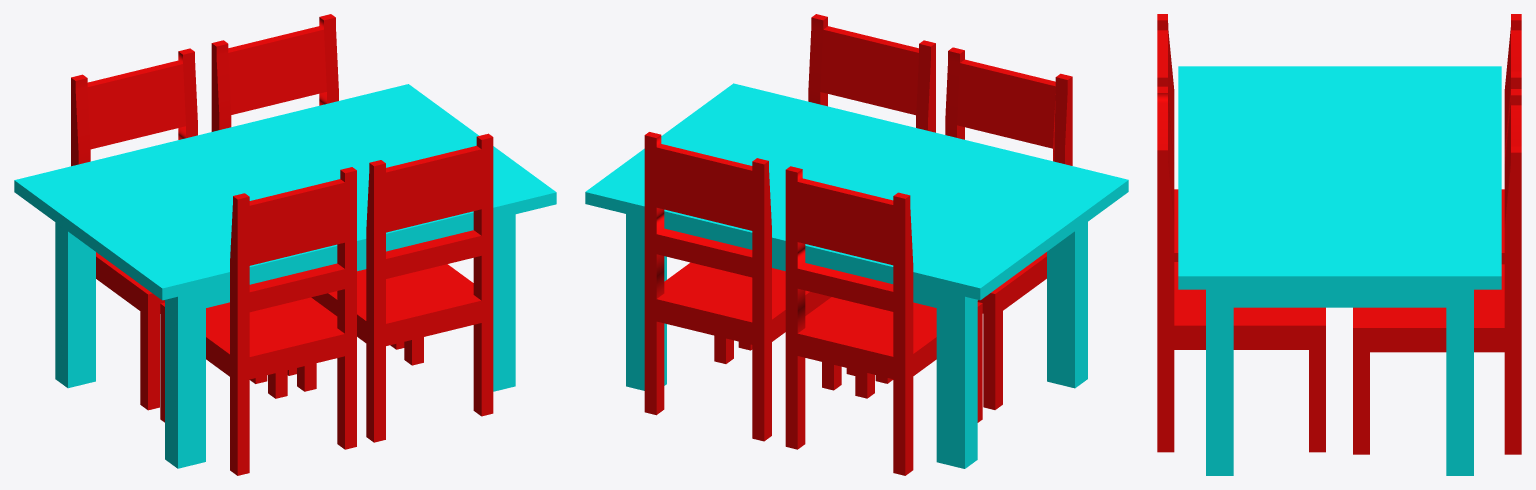
Rendered from Table.fbx.
3 views of the same model, side by side, from view 1: azimuth 30°, elevation 25°; view 2: azimuth 150°, elevation 25°; view 3: azimuth 270°, elevation 25° (orthographic). The views are drawn at different scales.
Visible parts, largest first — view 1: pasted__pCube1, pCube41, pCube42, pCube44, pCube43; view 2: pasted__pCube1, pCube44, pCube43, pCube41, pCube42; view 3: pasted__pCube1, pCube43, pCube42, pCube41, pCube44.
Part boxes in pixels (bbox=[...]): pasted__pCube1: bbox=[14, 84, 556, 468]; pCube41: bbox=[160, 167, 356, 475]; pCube42: bbox=[297, 133, 493, 442]; pCube44: bbox=[71, 48, 267, 410]; pCube43: bbox=[211, 14, 404, 375]; pasted__pCube1: bbox=[585, 83, 1128, 468]; pCube44: bbox=[785, 166, 982, 475]; pCube43: bbox=[644, 132, 841, 441]; pCube41: bbox=[875, 47, 1072, 409]; pCube42: bbox=[738, 14, 935, 375]; pasted__pCube1: bbox=[1178, 66, 1501, 475]; pCube43: bbox=[1353, 89, 1521, 454]; pCube42: bbox=[1157, 86, 1325, 452]; pCube41: bbox=[1157, 14, 1178, 261]; pCube44: bbox=[1501, 14, 1521, 264].
Bounding box in the file's own units: 3.58 × 2.4 × 2.62.
